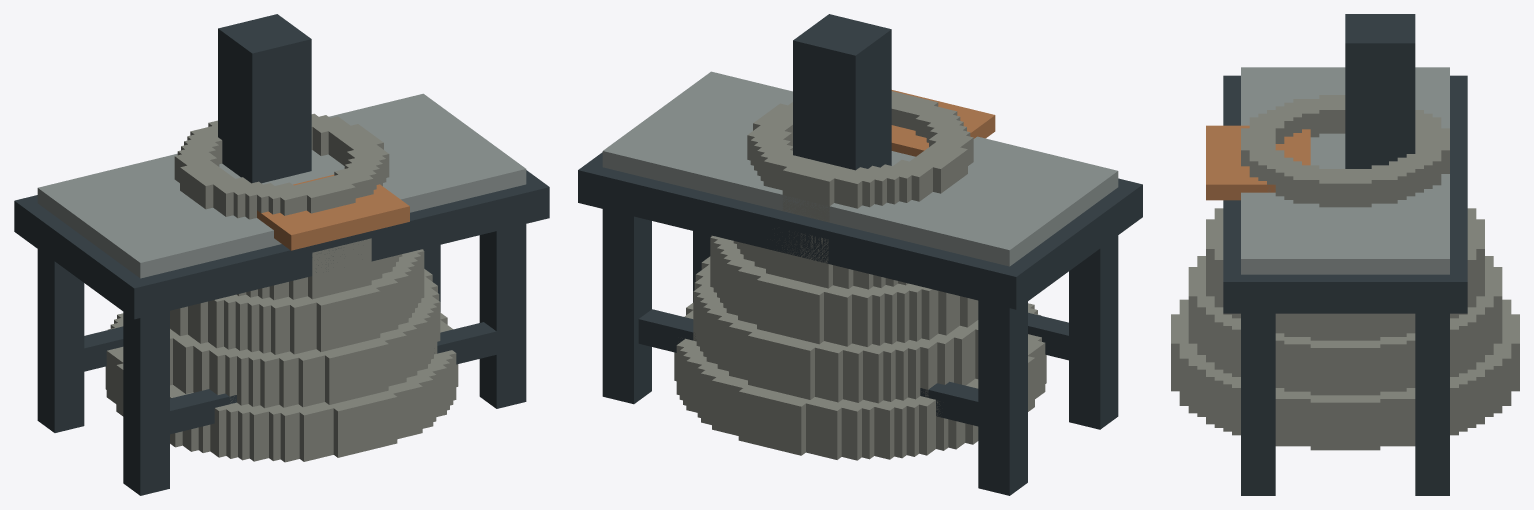
The model's file is kiln.glb.
The picture shows the model from 3 angles, left to right: view 1: azimuth 30°, elevation 25°; view 2: azimuth 150°, elevation 25°; view 3: azimuth 270°, elevation 25°; orthographic projection. The views are drawn at different scales.
Parts seen in each view (by area): view 1: kiln/furnace, kiln/frame, kiln/work_surface; view 2: kiln/furnace, kiln/frame, kiln/work_surface; view 3: kiln/furnace, kiln/frame, kiln/work_surface.
Boxes of the visible parts, x1,y1,x2,y2 form: kiln/furnace: (105, 14, 458, 462); kiln/frame: (14, 170, 549, 495); kiln/work_surface: (37, 93, 526, 278); kiln/furnace: (674, 14, 1046, 460); kiln/frame: (578, 152, 1142, 495); kiln/work_surface: (602, 71, 1118, 266); kiln/furnace: (1171, 14, 1519, 450); kiln/frame: (1223, 75, 1467, 495); kiln/work_surface: (1206, 67, 1449, 274).
Bounding box in the file's own units: 1.75 × 1.47 × 1.25.
